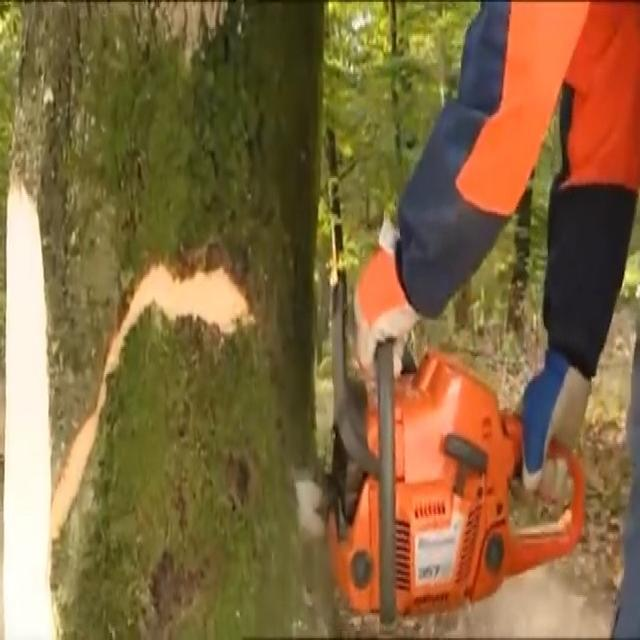Chainsaw: (289, 235, 593, 618)
